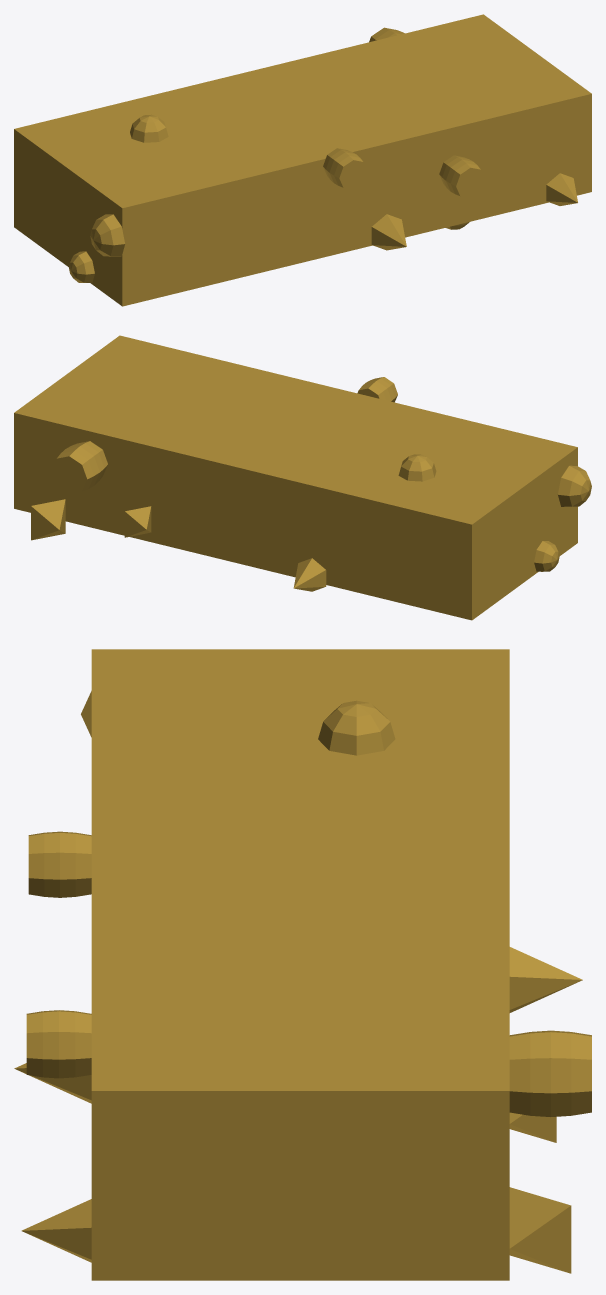
3 renders of one model, top to bottom at view 1: azimuth 30°, elevation 25°; view 2: azimuth 150°, elevation 25°; view 3: azimuth 270°, elevation 25°, orthographic. The views are drawn at different scales.
Parts seen in each view (by area): view 1: object05_high; view 2: object05_high; view 3: object05_high.
Boxes of the visible parts, <box> form: object05_high: <box>14,14,591,306</box>; object05_high: <box>14,335,591,620</box>; object05_high: <box>14,649,591,1280</box>.
Size of the model in its own units: 5.22 by 1.38 by 2.76.
